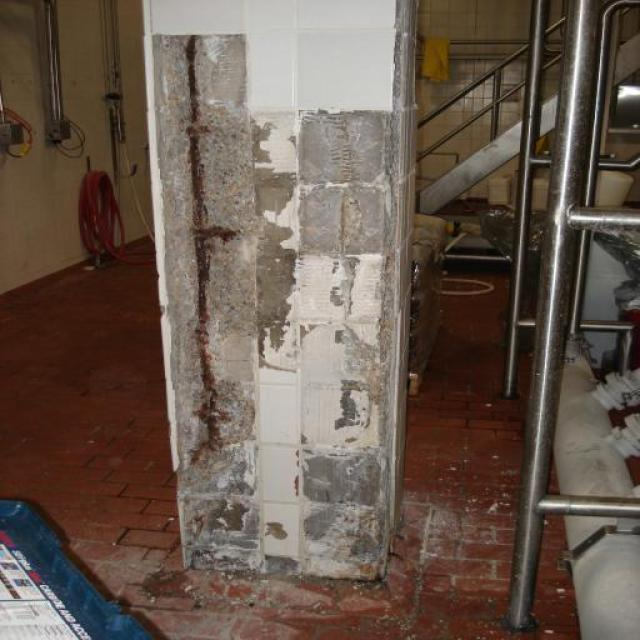D0w0: (152, 35, 260, 569)
